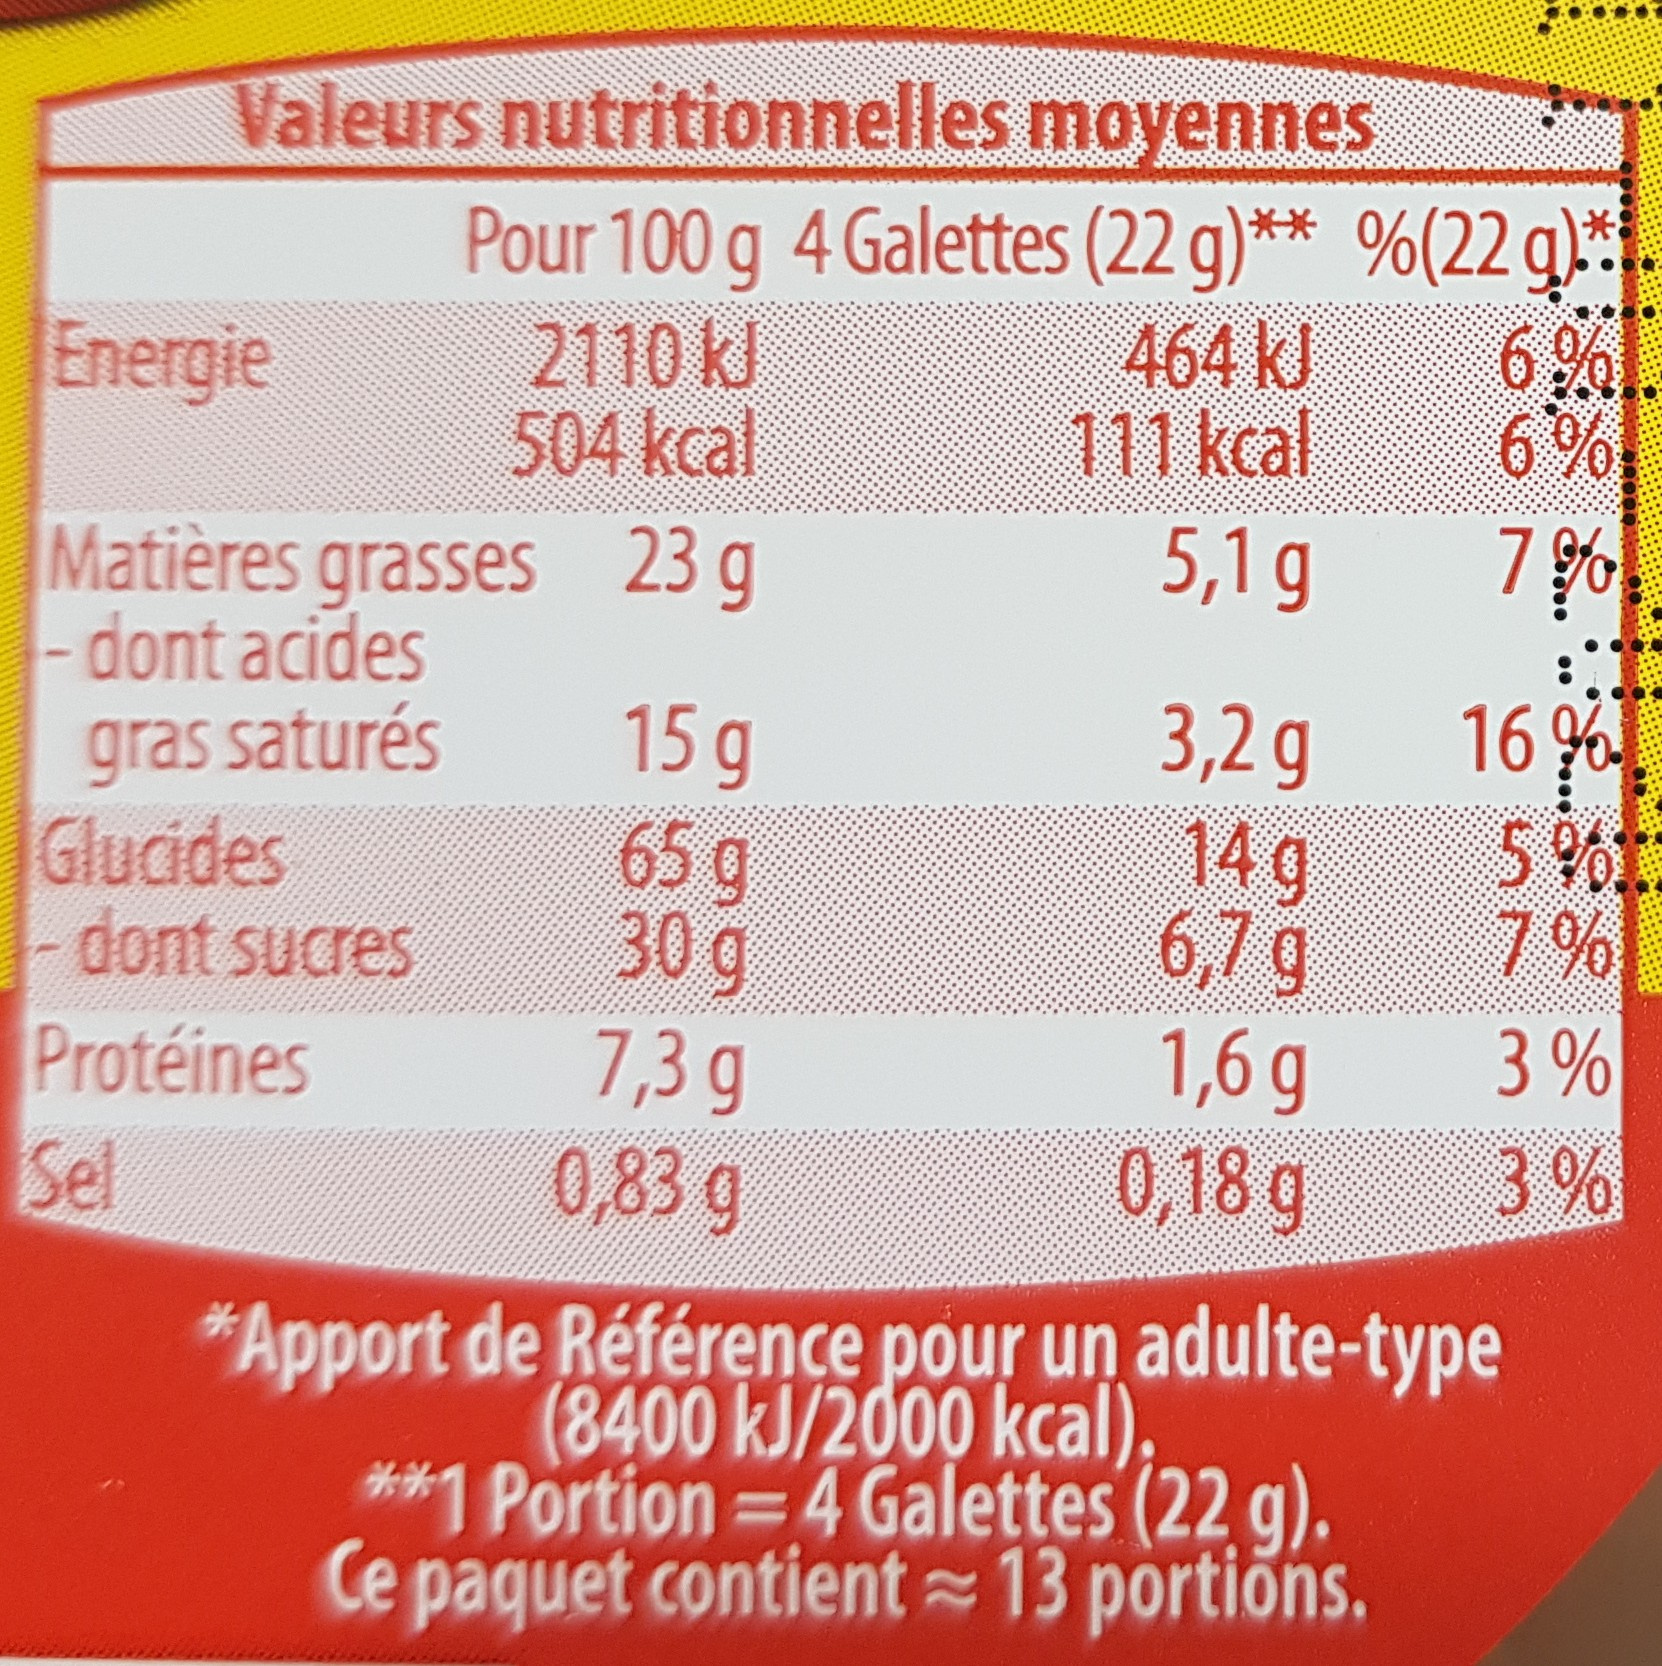column: (43, 170, 761, 1296), (791, 170, 1317, 1304), (1352, 173, 1618, 1299)
table: (12, 26, 1639, 1299)
